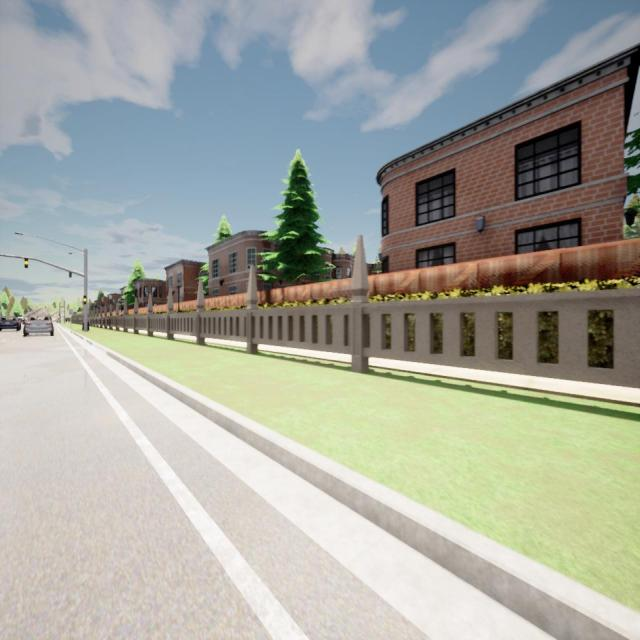Vehicle: (23, 313, 54, 337), (0, 315, 21, 331), (17, 316, 25, 324)
traffic_light: (25, 258, 28, 268), (84, 295, 86, 305), (69, 271, 72, 277)
